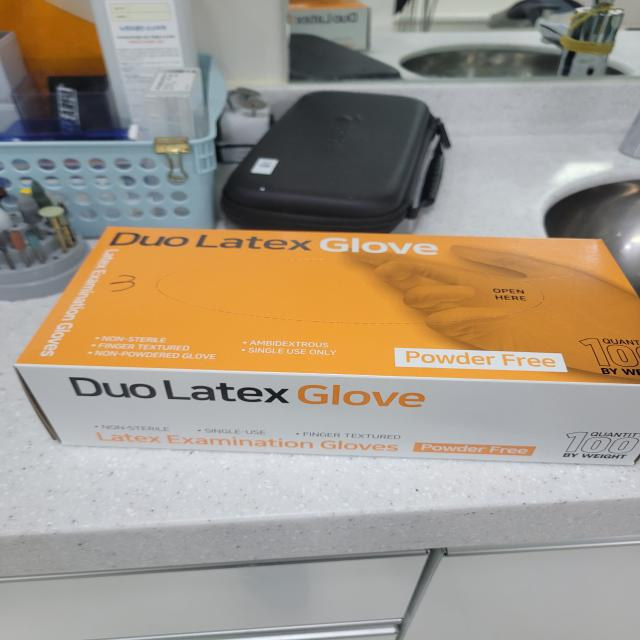glove: (15, 206, 640, 503)
